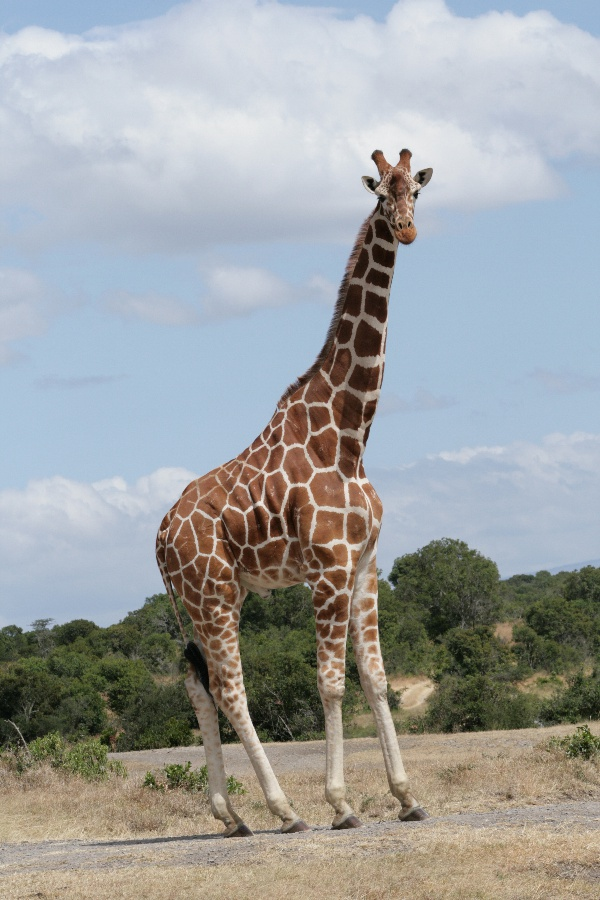giraffe: (149, 137, 443, 846)
